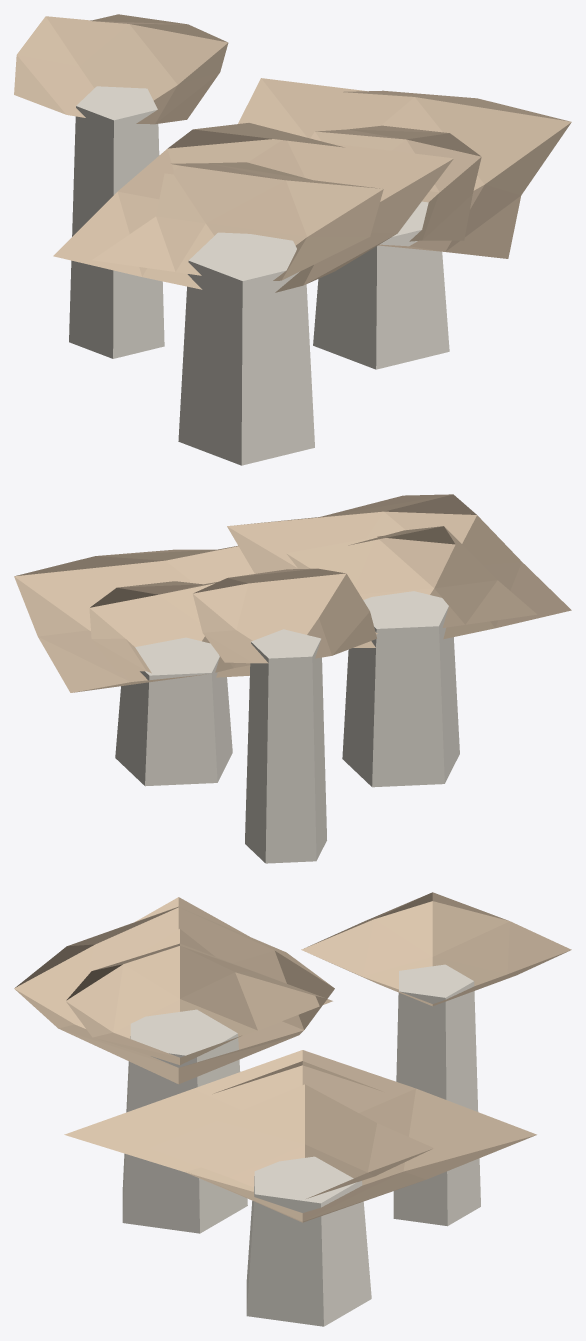
Rendered from mushroom_v11.glb.
3 views of the same model, one above another, from view 1: azimuth 30°, elevation 25°; view 2: azimuth 150°, elevation 25°; view 3: azimuth 270°, elevation 25° (orthographic). The views are drawn at different scales.
Parts seen in each view (by area): view 1: lod0; view 2: lod0; view 3: lod0.
Part boxes in pixels (x1,y1,x2,y2): lod0: (14, 14, 571, 465); lod0: (14, 494, 571, 863); lod0: (14, 892, 571, 1326).
Size of what is drawn, in the model's own units: 0.8815 by 0.4669 by 0.7623.
